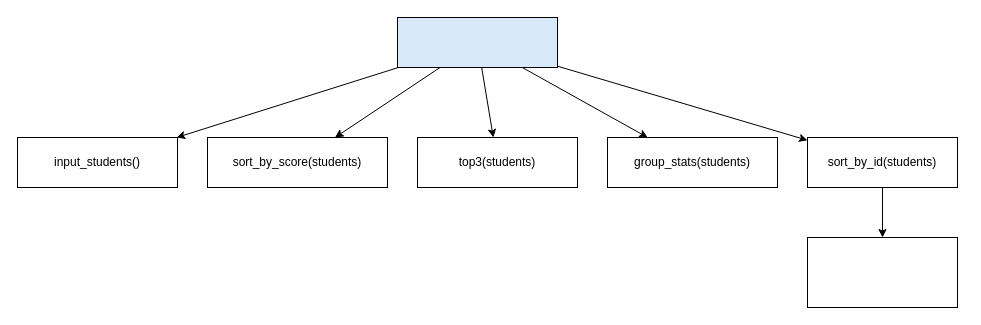
This 981x325 diagram has some shape labels left out. The shapes that lost their labels are listed below. From the top down, each one's centre as x and y in pixels, then its label:
(x=477, y=42): main()
(x=882, y=272): binary_search_by_id(students, target_id)
